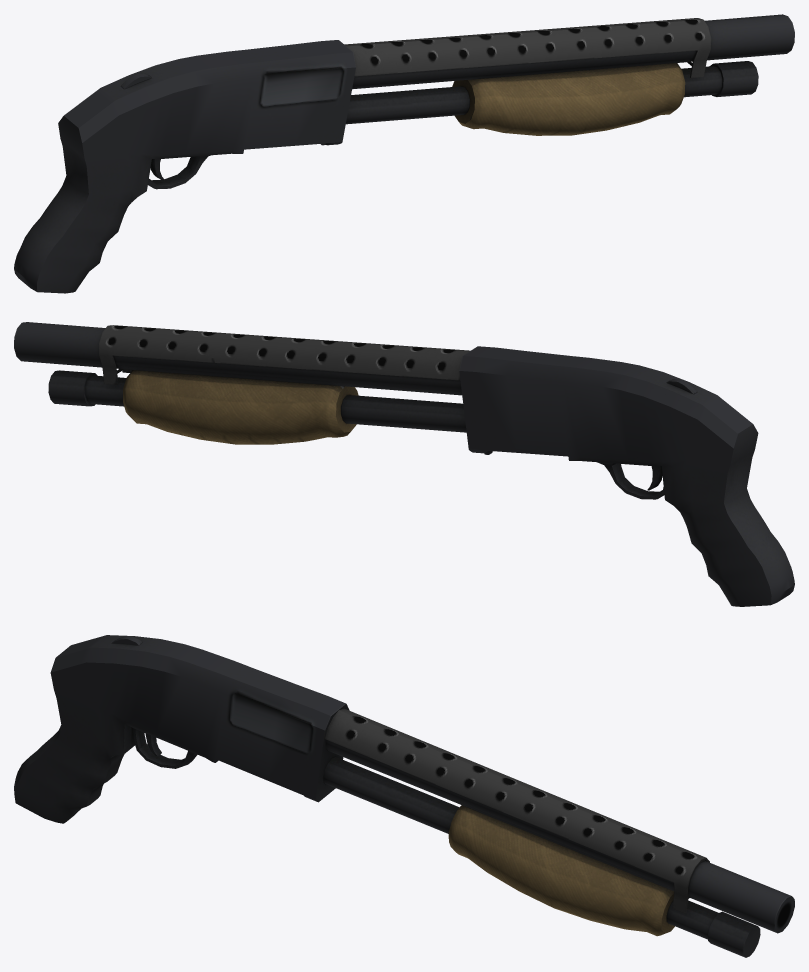
Rendered from shotgun_000020.obj.
3 views of the same model, one above another, from view 1: azimuth 30°, elevation 25°; view 2: azimuth 150°, elevation 25°; view 3: azimuth 330°, elevation 25° (orthographic).
Visible parts, largest first — view 1: mesh_Cube.001; view 2: mesh_Cube.001; view 3: mesh_Cube.001.
Boxes of the visible parts, bbox=[...] form: mesh_Cube.001: bbox=[14, 14, 794, 293]; mesh_Cube.001: bbox=[14, 322, 794, 606]; mesh_Cube.001: bbox=[14, 635, 794, 957].
Size of the model in its own units: 1.94 by 0.4855 by 0.1706.
1 material, 1 textured.
